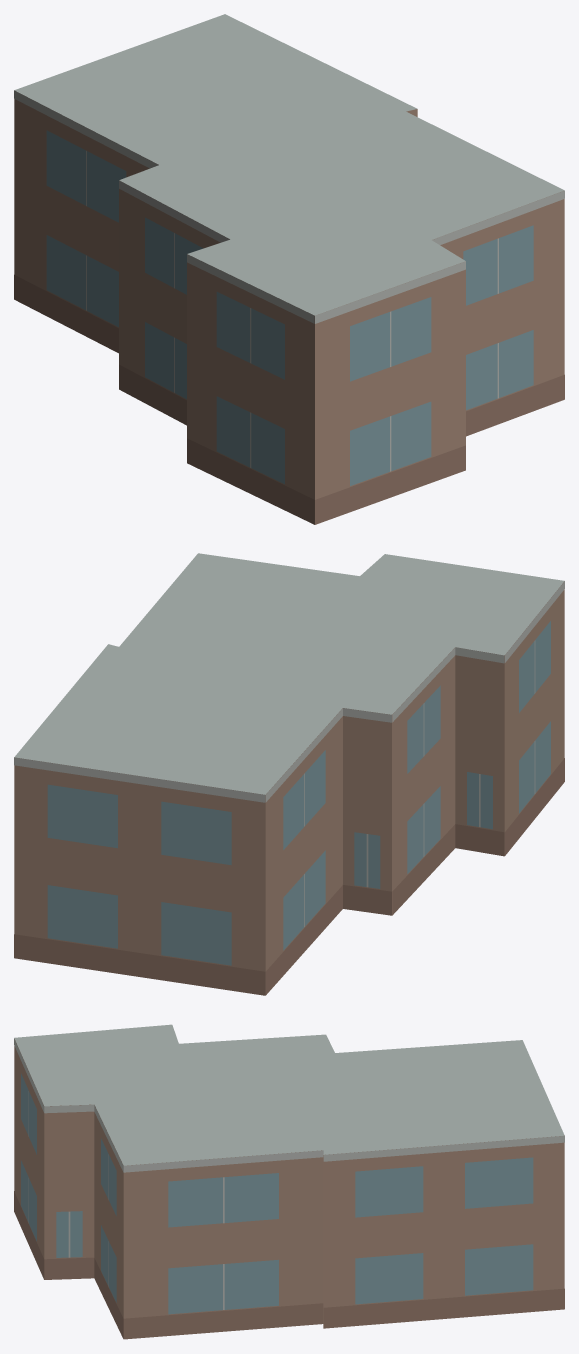
The model's file is survey-upis-32609987.glb.
3 views of the same model, one above another, from view 1: azimuth 30°, elevation 25°; view 2: azimuth 150°, elevation 25°; view 3: azimuth 270°, elevation 25° (orthographic). The views are drawn at different scales.
Parts seen in each view (by area): view 1: survey-upis-32609987.tmp; view 2: survey-upis-32609987.tmp; view 3: survey-upis-32609987.tmp.
Part boxes in pixels (box(x1,y1,x2,y2)): survey-upis-32609987.tmp: box(14, 14, 564, 524); survey-upis-32609987.tmp: box(14, 553, 564, 995); survey-upis-32609987.tmp: box(14, 1024, 564, 1339).
Bounding box in the file's own units: 10.65 × 6.1 × 17.54.
